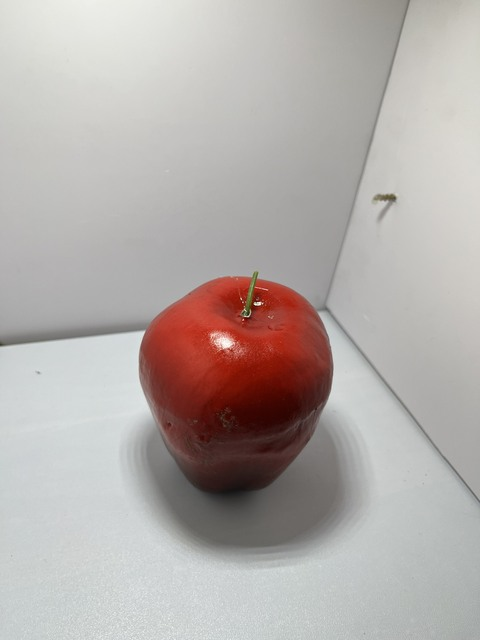Tao: (133, 276, 343, 507)
